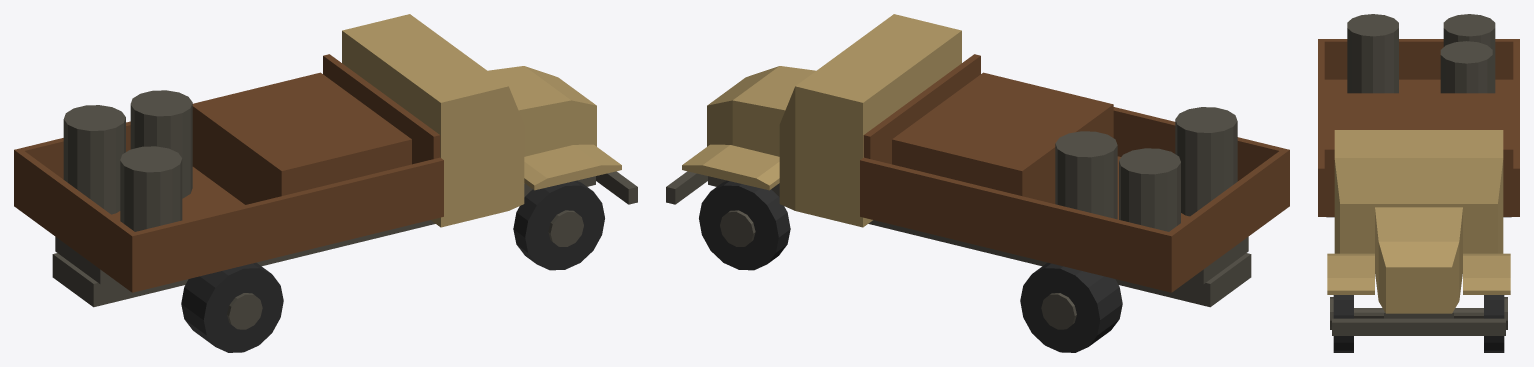
The model's file is de_opel_blitz.obj.
3 views of the same model, side by side, from view 1: azimuth 30°, elevation 25°; view 2: azimuth 150°, elevation 25°; view 3: azimuth 270°, elevation 25° (orthographic). The views are drawn at different scales.
Bounding box in the file's own units: 5.52 × 2.02 × 2.2.
